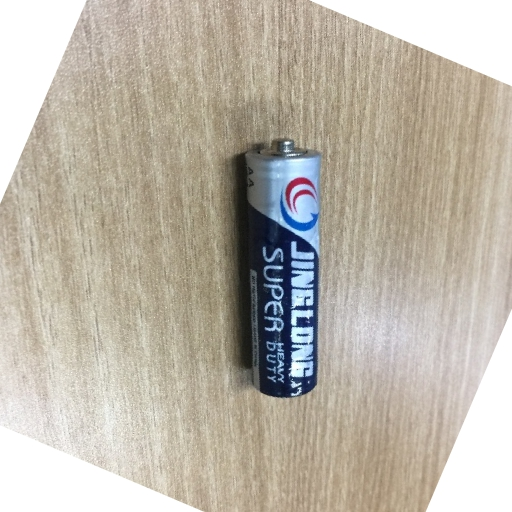Battery_0: (225, 119, 350, 419)
